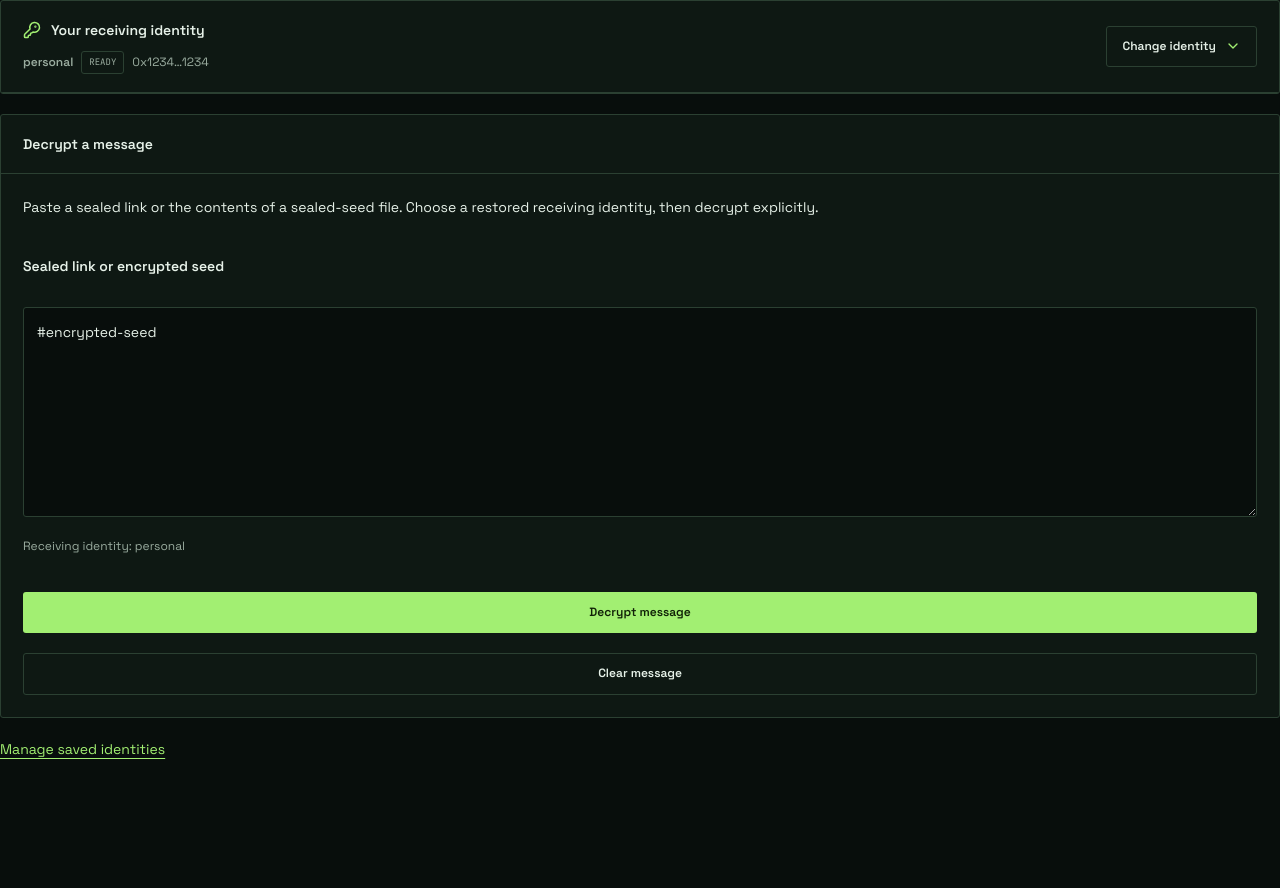
it: only decrypts explicitly, labels sender identity unverified and clears plaintext
Check: the text box labelled "Sealed link or encrypted seed" holds "#encrypted-seed", box [23, 307, 1257, 517]
Click the button "Decrypt message" at (640, 613), box [23, 592, 1257, 633]
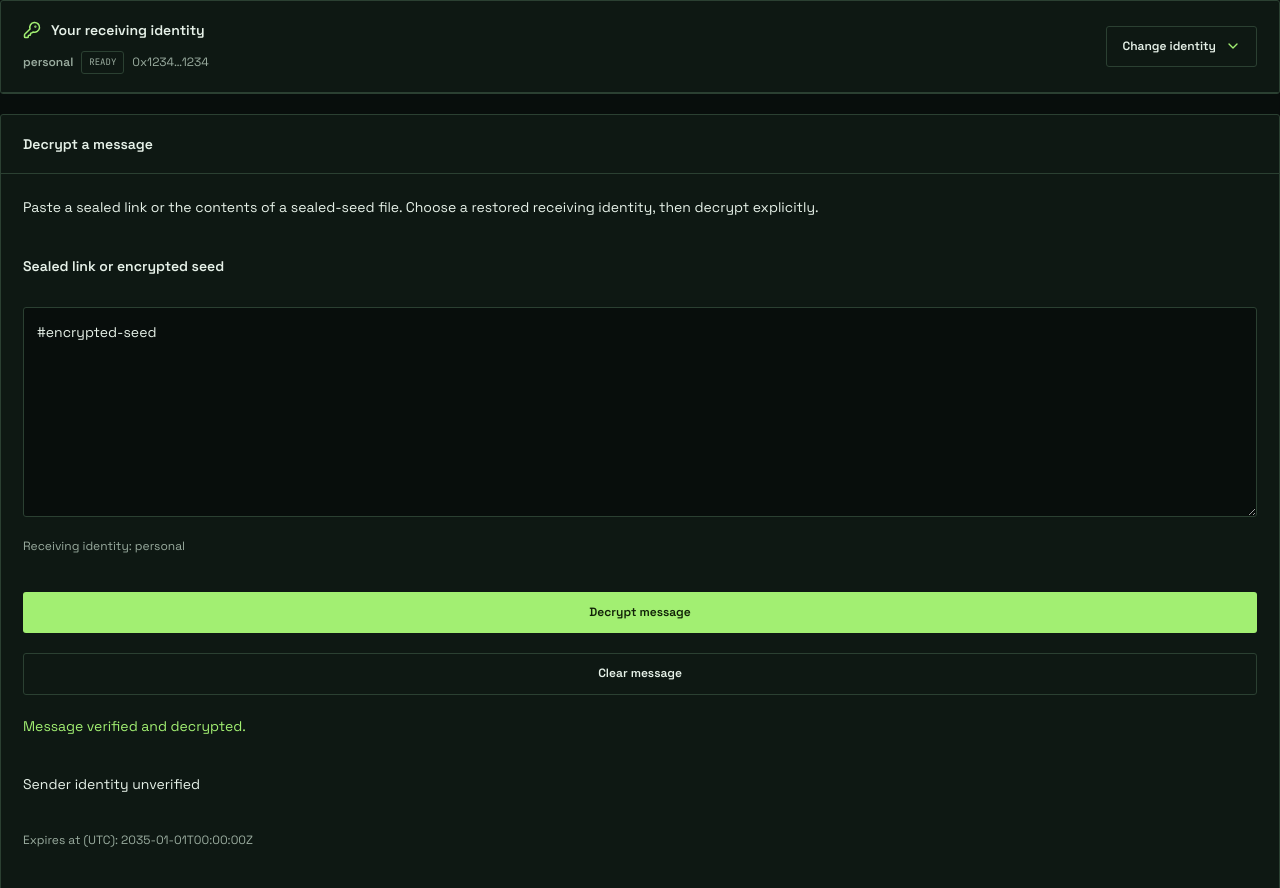
Check: the text "Sender identity unverified" is shown, box [23, 775, 200, 793]
Click the button "Clear message" at (640, 674), box [23, 653, 1257, 694]
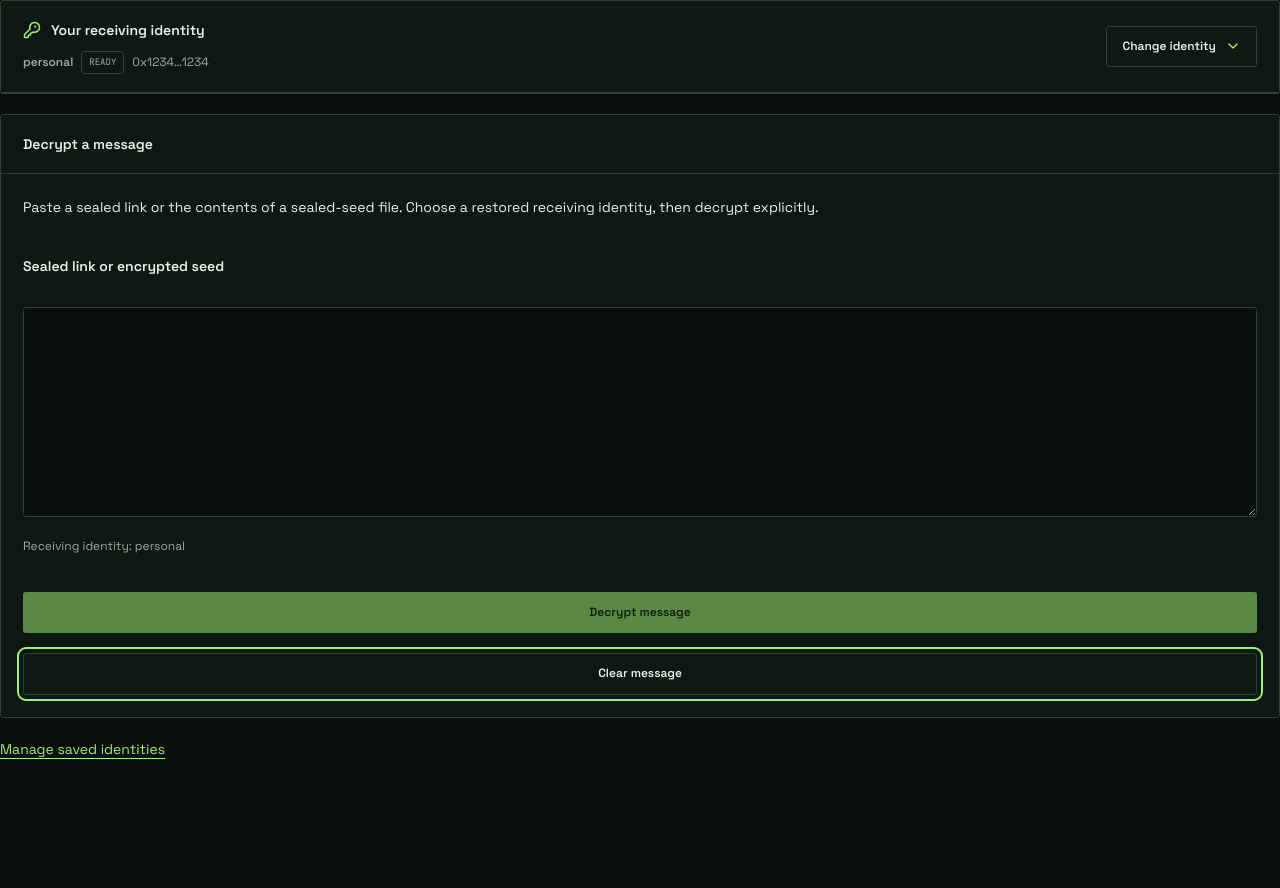
Check: the text box labelled "Sealed link or encrypted seed" is empty, box [23, 307, 1257, 517]
